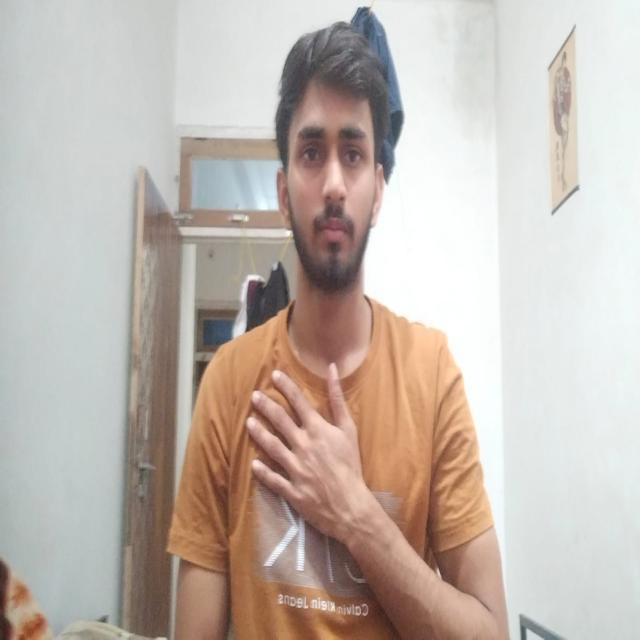Please: (236, 338, 407, 600)
